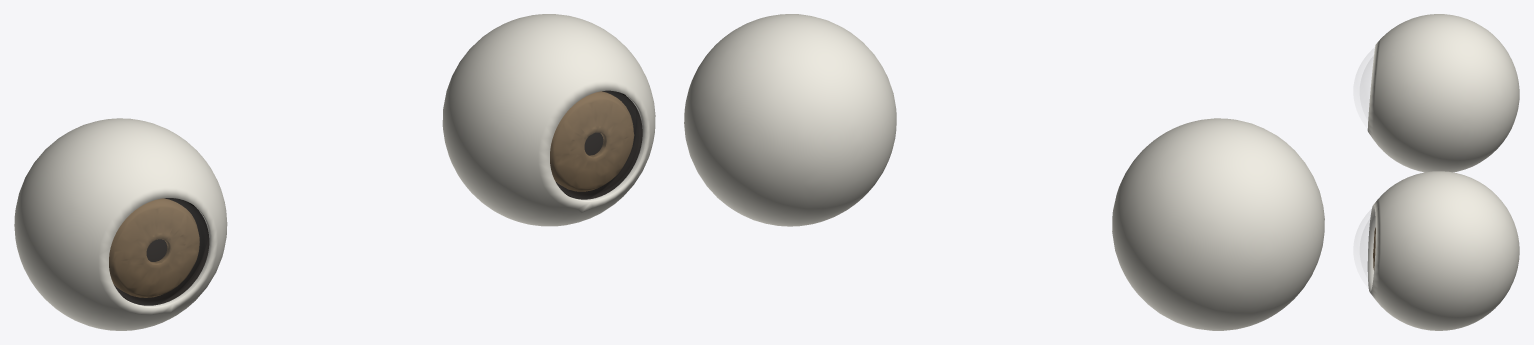
Rendered from zanatomy-surface-eyes-v1.glb.
3 renders of one model, left to right at view 1: azimuth 30°, elevation 25°; view 2: azimuth 150°, elevation 25°; view 3: azimuth 270°, elevation 25°, orthographic. The views are drawn at different scales.
Parts seen in each view (by area): view 1: ZAHD__nervous__0487, ZAHD__nervous__0486, ZAHD__nervous__0494, ZAHD__nervous__0495, ZAHD__nervous__0492, ZAHD__nervous__0493, ZAHD__nervous__0488, ZAHD__nervous__0489; view 2: ZAHD__nervous__0486, ZAHD__nervous__0487; view 3: ZAHD__nervous__0487, ZAHD__nervous__0486, ZAHD__nervous__0495, ZAHD__nervous__0494.
Boxes of the visible parts, x1,y1,x2,y2 form: ZAHD__nervous__0487: (442,14,655,226); ZAHD__nervous__0486: (14,118,227,330); ZAHD__nervous__0494: (109,198,210,306); ZAHD__nervous__0495: (550,91,644,200); ZAHD__nervous__0492: (109,198,199,297); ZAHD__nervous__0493: (550,91,634,191); ZAHD__nervous__0488: (113,198,209,305); ZAHD__nervous__0489: (555,90,642,199); ZAHD__nervous__0486: (1112,118,1324,330); ZAHD__nervous__0487: (684,14,896,226); ZAHD__nervous__0487: (1367,171,1519,330); ZAHD__nervous__0486: (1367,14,1519,172); ZAHD__nervous__0495: (1354,207,1375,290); ZAHD__nervous__0494: (1354,48,1374,127).
Size of the model in its own units: 0.0873 by 0.0262 by 0.0273.
